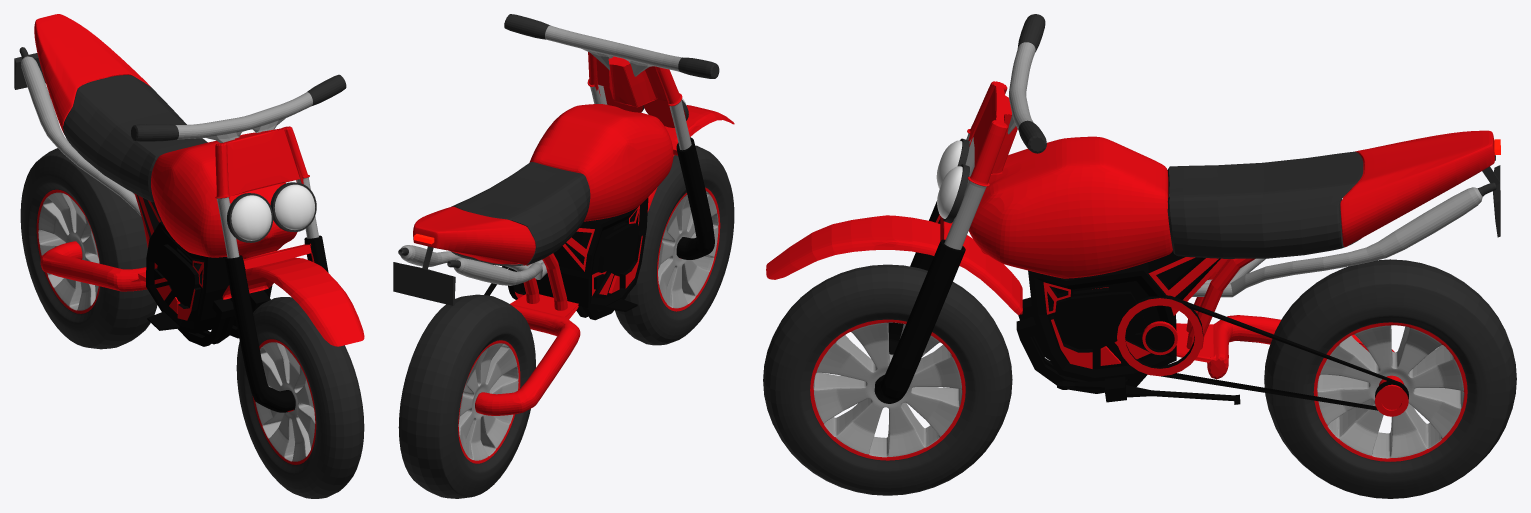
The model's file is DirtBIKE.fbx.
3 renders of one model, left to right at view 1: azimuth 30°, elevation 25°; view 2: azimuth 150°, elevation 25°; view 3: azimuth 270°, elevation 25°, orthographic. The views are drawn at different scales.
Parts seen in each view (by area): view 1: Front_tire, Rear_tire, Front_bar, Seat, Engine, Tank, Rear_body, Front_mudcover, Handle, Sphere, Bars2, Cylinder (+1 smaller); view 2: Rear_tire, Front_tire, Tank, Engine, Seat, Front_bar, Rear_body, Bars2, Handle, Cylinder, Rear_plate, Bars1 (+2 smaller); view 3: Rear_tire, Front_tire, Tank, Engine, Seat, Front_bar, Rear_body, Front_mudcover, Chain, Cylinder, Bars2, Handle (+3 smaller).
Boxes of the visible parts, bbox=[...] form: Front_tire: bbox=[236, 297, 364, 498]; Rear_tire: bbox=[20, 148, 157, 349]; Front_bar: bbox=[215, 126, 328, 412]; Seat: bbox=[63, 75, 207, 202]; Engine: bbox=[135, 194, 272, 346]; Tank: bbox=[151, 140, 297, 259]; Rear_body: bbox=[34, 14, 150, 134]; Front_mudcover: bbox=[222, 257, 364, 346]; Handle: bbox=[131, 74, 346, 142]; Sphere: bbox=[227, 182, 316, 242]; Bars2: bbox=[40, 241, 146, 291]; Cylinder: bbox=[19, 47, 141, 216]; Rear_tire: bbox=[398, 294, 535, 498]; Front_tire: bbox=[615, 145, 734, 345]; Tank: bbox=[529, 104, 673, 221]; Engine: bbox=[512, 197, 648, 320]; Seat: bbox=[451, 162, 590, 266]; Front_bar: bbox=[587, 52, 714, 259]; Rear_body: bbox=[413, 206, 535, 265]; Bars2: bbox=[475, 294, 580, 415]; Handle: bbox=[504, 14, 719, 78]; Cylinder: bbox=[398, 245, 547, 285]; Rear_plate: bbox=[393, 246, 455, 305]; Bars1: bbox=[523, 237, 567, 310]; Rear_tire: bbox=[1264, 259, 1516, 498]; Front_tire: bbox=[763, 264, 1012, 495]; Tank: bbox=[968, 136, 1172, 278]; Engine: bbox=[1016, 250, 1240, 404]; Seat: bbox=[1167, 151, 1363, 258]; Front_bar: bbox=[874, 81, 1017, 403]; Rear_body: bbox=[1340, 130, 1494, 246]; Front_mudcover: bbox=[766, 215, 1022, 315]; Chain: bbox=[1117, 295, 1408, 410]; Cylinder: bbox=[1192, 155, 1496, 297]; Bars2: bbox=[1176, 315, 1394, 379]; Handle: bbox=[1007, 14, 1046, 153].
Bounding box in the file's own units: 110 × 172 × 280.
